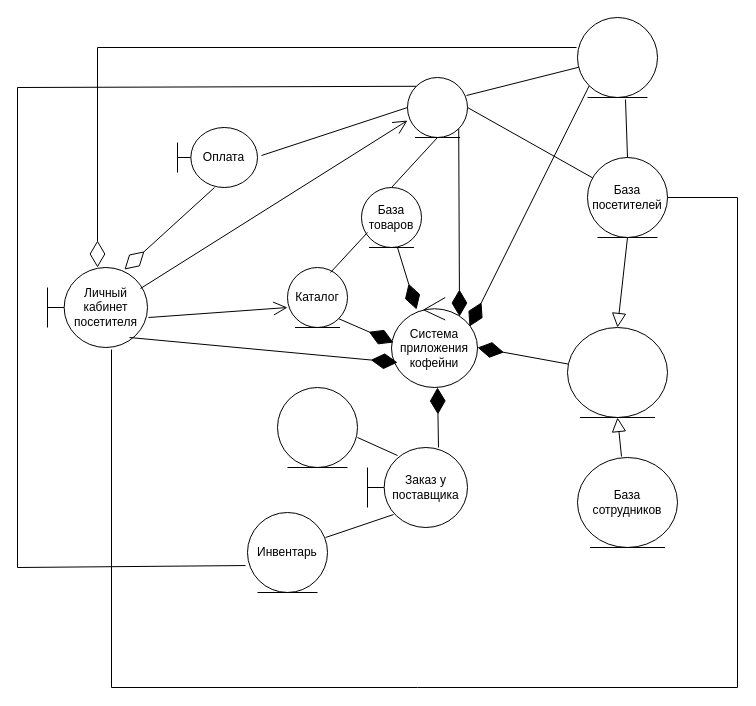
Some shapes in this 756 by 706 pixel diagram are drawn without their labels. The shapes that lost their labels are listed below. From the top down, each one's box as (x1, y1, x2, y2) in pixels, then its label:
(576, 16, 658, 98): Уведомления
(406, 76, 468, 138): База заказов
(566, 326, 668, 418): База пользователей
(276, 386, 358, 468): База поставщиков
